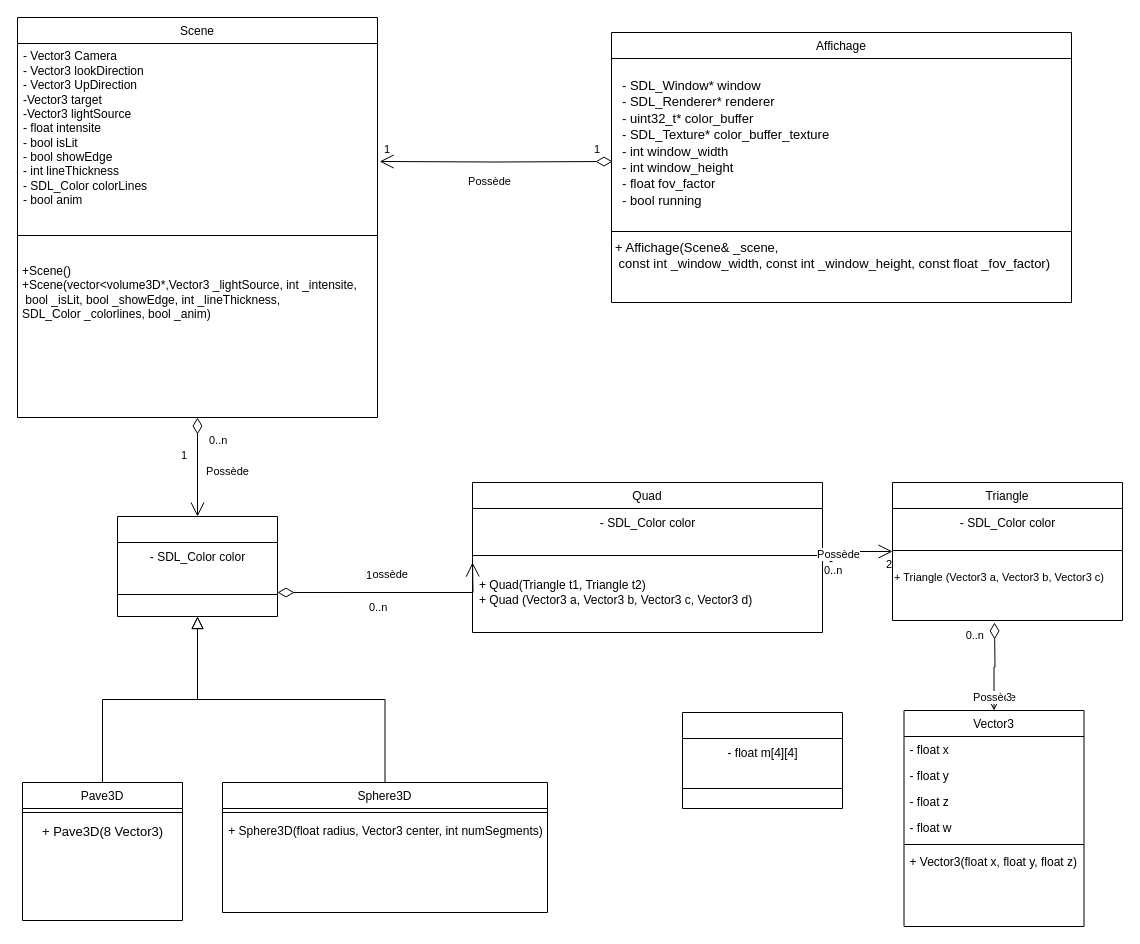
This 1140x944 diagram has some shape labels left out. Here are the shapes that lost their labels. From the top down, the box of each, then its label:
(116, 516, 278, 616): Volume 3D
(682, 712, 842, 808): Matrix4
